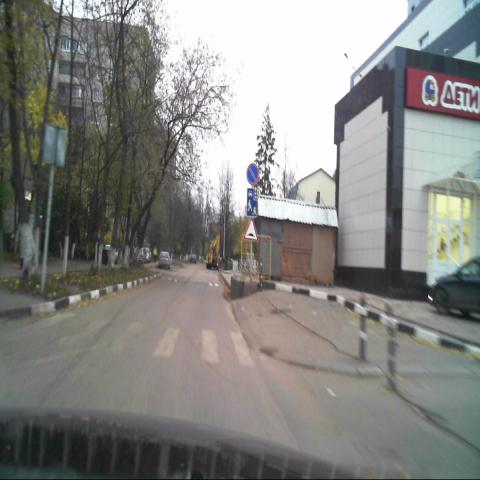5_21: (247, 188, 258, 215)
